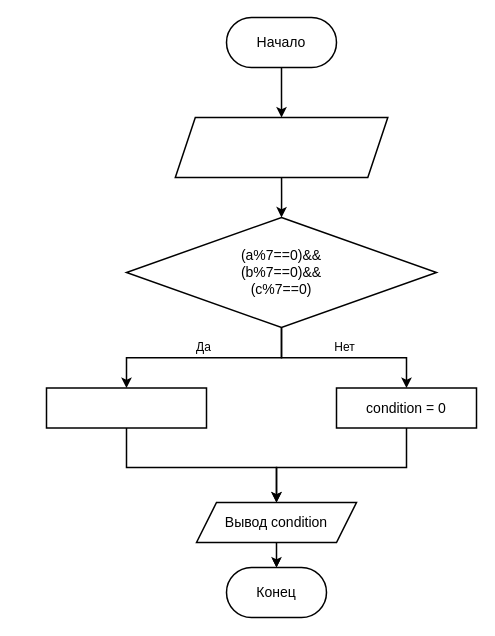
Image size: 495x636. Some labels were removed from this diagram. The shapes that lost their labels are listed below. From the top down, each one's centre as x and y in pixels, then its label:
At pixel 281 147: "Ввести A, B, C".
At pixel 126 407: "condition = 1".
